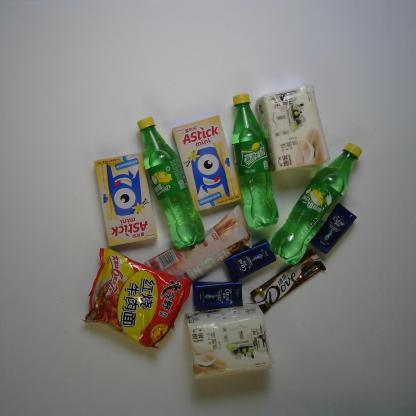Chocolate: (250, 248, 328, 314)
Dessert: (144, 202, 254, 284), (171, 113, 244, 214), (93, 151, 159, 249)
Drink: (267, 141, 364, 265), (137, 115, 206, 252), (230, 92, 279, 228)
Instant Noodles: (77, 247, 193, 351)
Personal Hygiene: (222, 237, 278, 283), (310, 203, 358, 256), (192, 281, 244, 310)
Tissue: (184, 302, 274, 383), (254, 84, 331, 173)
